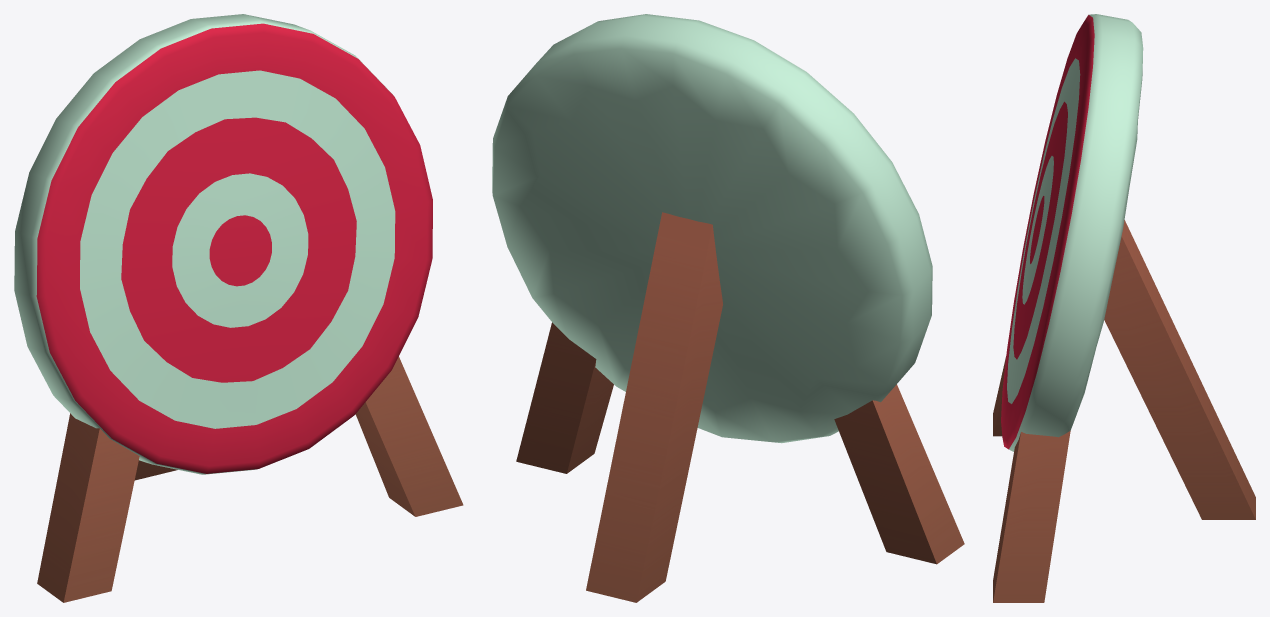
Rendered from target_fixed.fbx.
3 renders of one model, left to right at view 1: azimuth 30°, elevation 25°; view 2: azimuth 150°, elevation 25°; view 3: azimuth 270°, elevation 25°, orthographic. The views are drawn at different scales.
Visible parts, largest first — view 1: Cylinder.009; view 2: Cylinder.009; view 3: Cylinder.009.
Boxes of the visible parts, left/top/right/bottom form: Cylinder.009: left=14, top=14, right=463, bottom=602; Cylinder.009: left=492, top=14, right=964, bottom=602; Cylinder.009: left=993, top=14, right=1255, bottom=602.
Size of the model in its own units: 191 by 222 by 112.
